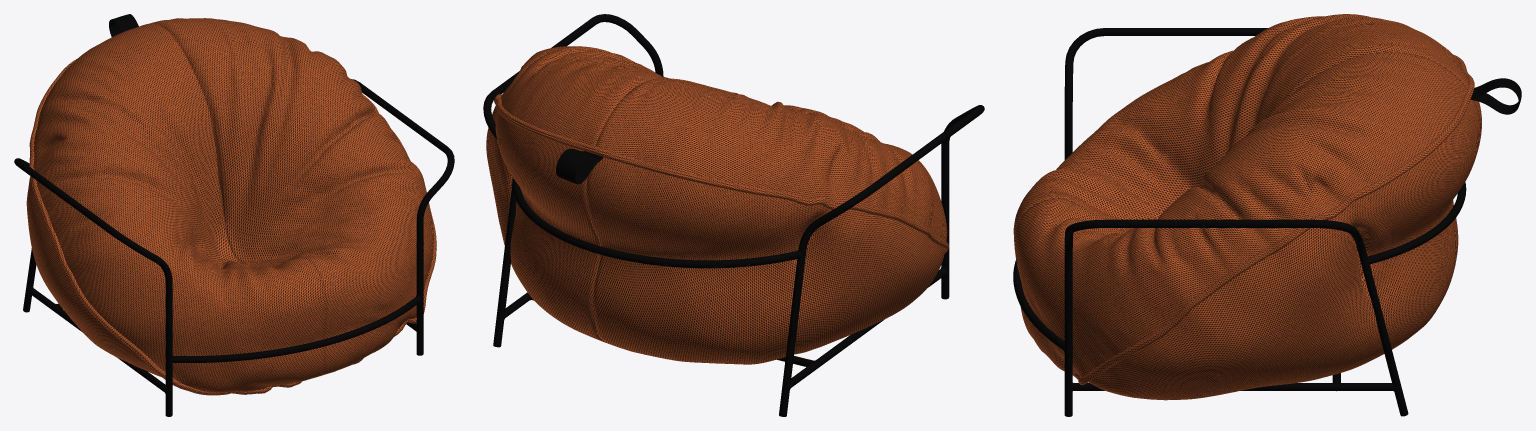
File: Orange.gltf
The picture shows the model from 3 angles, left to right: view 1: azimuth 30°, elevation 25°; view 2: azimuth 150°, elevation 25°; view 3: azimuth 270°, elevation 25°; orthographic projection. The views are drawn at different scales.
Visible parts, largest first — view 1: Uni_armchair_pouf_model_Uni_armchair_02, Uni_armchair_pouf_model_Uni_armchair_03, Uni_armchair_pouf_model_Uni_armchair_01; view 2: Uni_armchair_pouf_model_Uni_armchair_02, Uni_armchair_pouf_model_Uni_armchair_03, Uni_armchair_pouf_model_Uni_armchair_01; view 3: Uni_armchair_pouf_model_Uni_armchair_02, Uni_armchair_pouf_model_Uni_armchair_03, Uni_armchair_pouf_model_Uni_armchair_01.
Boxes of the visible parts, <box> form: Uni_armchair_pouf_model_Uni_armchair_02: <box>26,18,436,395</box>; Uni_armchair_pouf_model_Uni_armchair_03: <box>14,79,454,416</box>; Uni_armchair_pouf_model_Uni_armchair_01: <box>109,14,138,36</box>; Uni_armchair_pouf_model_Uni_armchair_02: <box>486,46,949,364</box>; Uni_armchair_pouf_model_Uni_armchair_03: <box>483,14,984,416</box>; Uni_armchair_pouf_model_Uni_armchair_01: <box>556,148,602,184</box>; Uni_armchair_pouf_model_Uni_armchair_02: <box>1013,14,1481,400</box>; Uni_armchair_pouf_model_Uni_armchair_03: <box>1013,28,1466,416</box>; Uni_armchair_pouf_model_Uni_armchair_01: <box>1470,78,1521,114</box>.
Bounding box in the file's own units: 0.9422 × 0.6416 × 0.9844.
3 materials, 1 textured.
